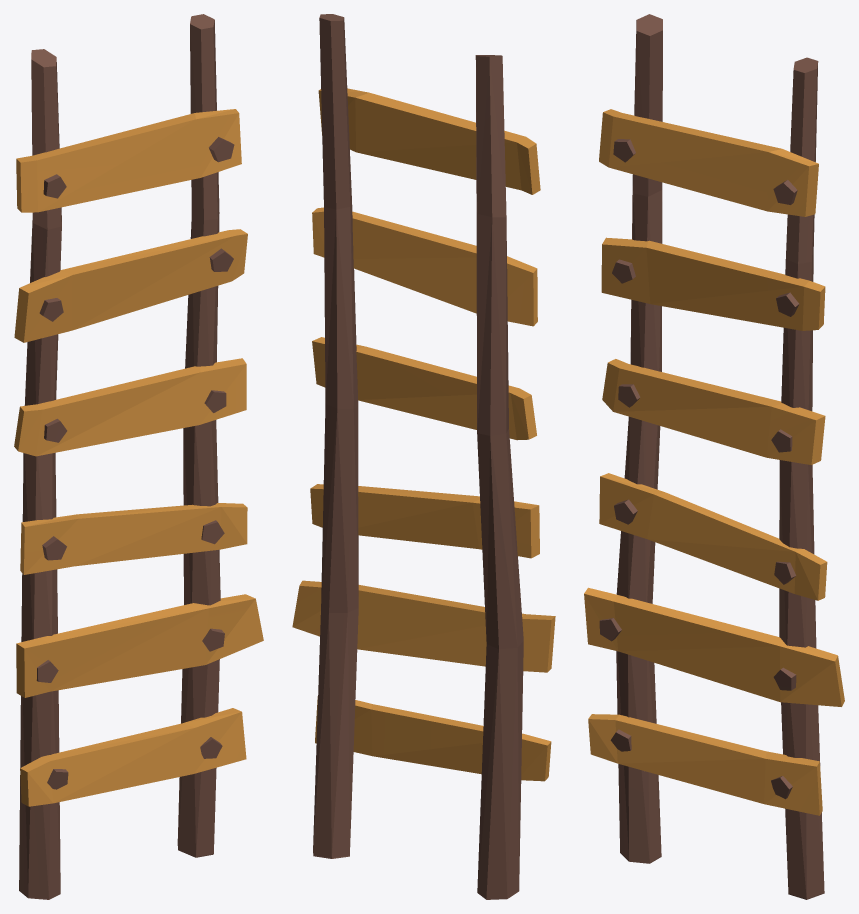
Rendered from Ladder 1.fbx.
3 views of the same model, side by side, from view 1: azimuth 30°, elevation 25°; view 2: azimuth 150°, elevation 25°; view 3: azimuth 330°, elevation 25° (orthographic).
Visible parts, largest first — view 1: Ladder; view 2: Ladder; view 3: Ladder.
Part boxes in pixels (x1=…): Ladder: x1=14, y1=14, x2=263, y2=899; Ladder: x1=292, y1=14, x2=555, y2=899; Ladder: x1=584, y1=14, x2=844, y2=899.
Size of the model in its own units: 3.5 by 11.18 by 0.8393.
